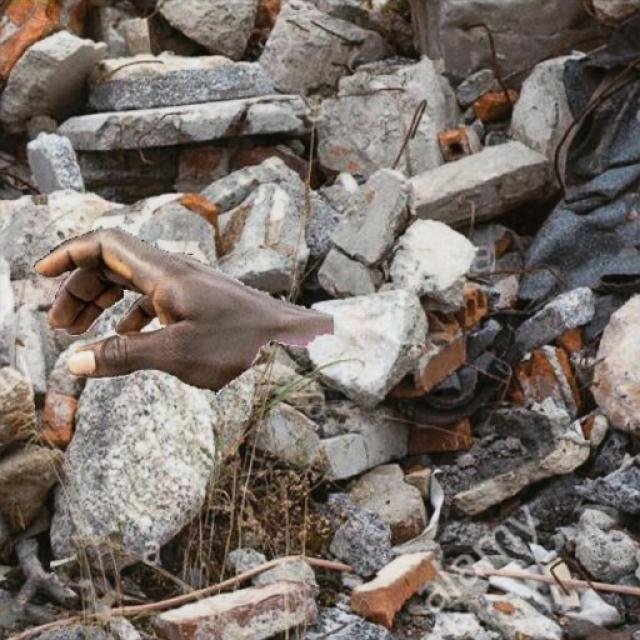Person in Rubble: (34, 226, 332, 394)
